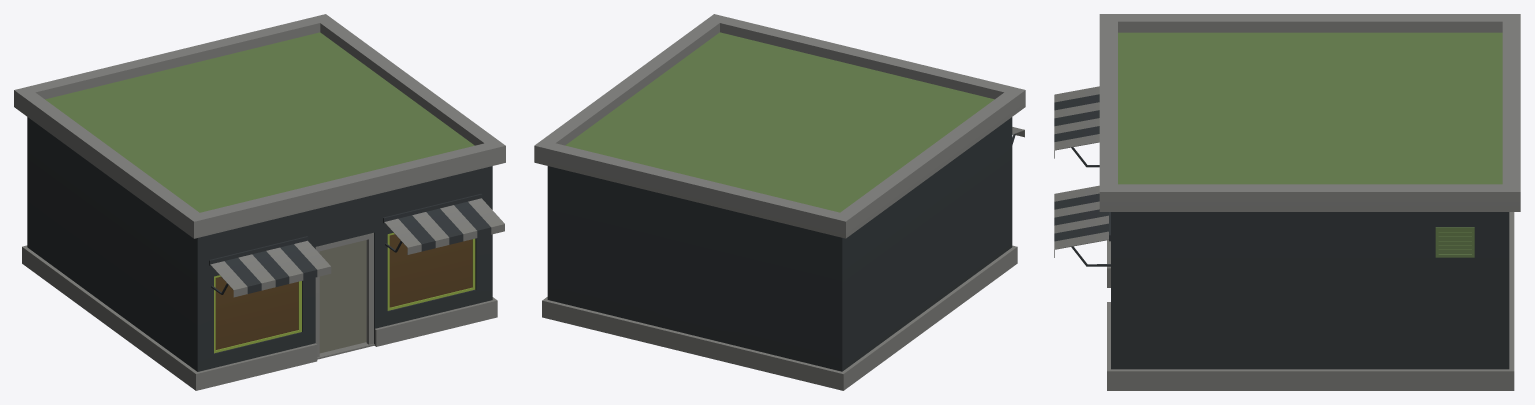
The model's file is SmallHouse_03.fbx.
The picture shows the model from 3 angles, left to right: view 1: azimuth 30°, elevation 25°; view 2: azimuth 150°, elevation 25°; view 3: azimuth 270°, elevation 25°; orthographic projection. The views are drawn at different scales.
Parts seen in each view (by area): view 1: SmallHouse_03; view 2: SmallHouse_03; view 3: SmallHouse_03.
Part boxes in pixels (left/top/right/bottom): SmallHouse_03: left=14, top=14, right=505, bottom=390; SmallHouse_03: left=534, top=14, right=1025, bottom=390; SmallHouse_03: left=1054, top=14, right=1520, bottom=390.
Bounding box in the file's own units: 6.34 × 3.36 × 7.03.
